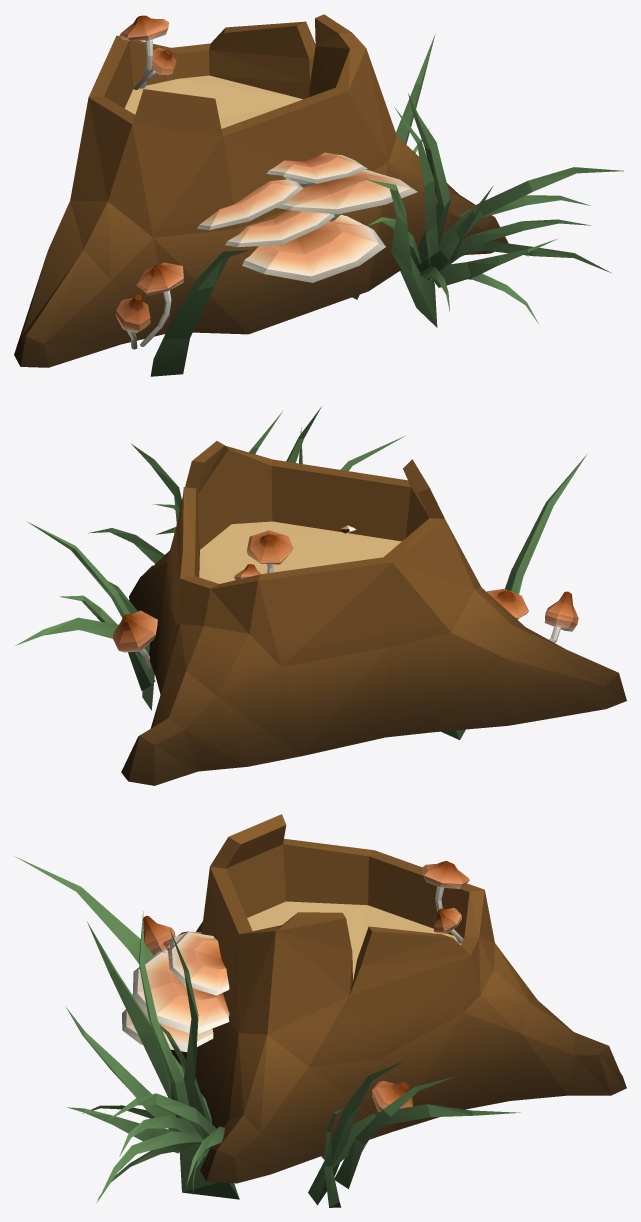
Rendered from TreeStump_B-03.FBX.
3 renders of one model, top to bottom at view 1: azimuth 30°, elevation 25°; view 2: azimuth 150°, elevation 25°; view 3: azimuth 270°, elevation 25°, orthographic. The views are drawn at different scales.
Parts seen in each view (by area): view 1: TreeStump_B-03; view 2: TreeStump_B-03; view 3: TreeStump_B-03.
Part boxes in pixels (x1,y1,x2,y2): TreeStump_B-03: (14, 14, 623, 376); TreeStump_B-03: (15, 406, 626, 785); TreeStump_B-03: (15, 814, 626, 1207).
Size of the model in its own units: 220 by 105 by 208.
Materials: 1 (1 with a texture image).
